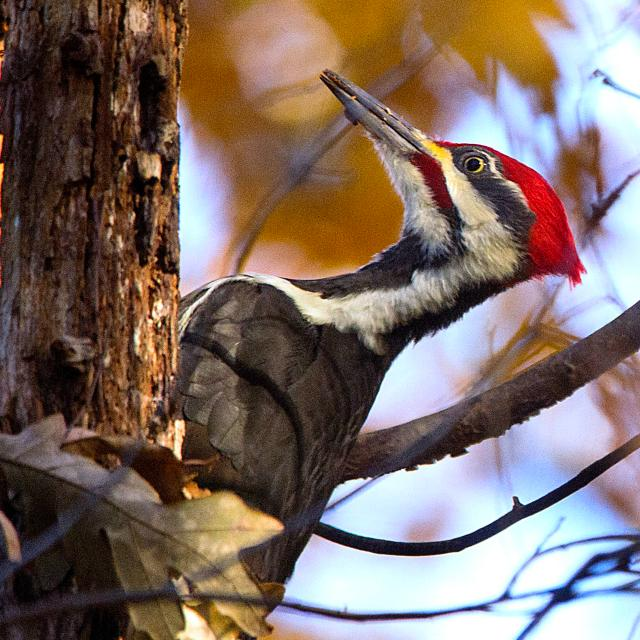woodpecker: (176, 78, 585, 582)
